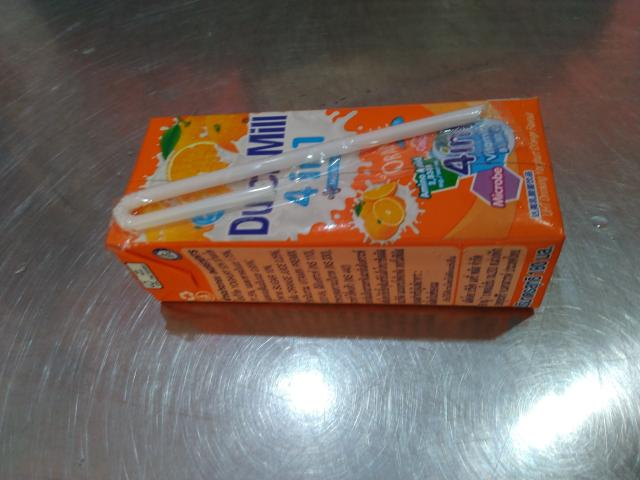drink_box: (85, 85, 584, 337)
